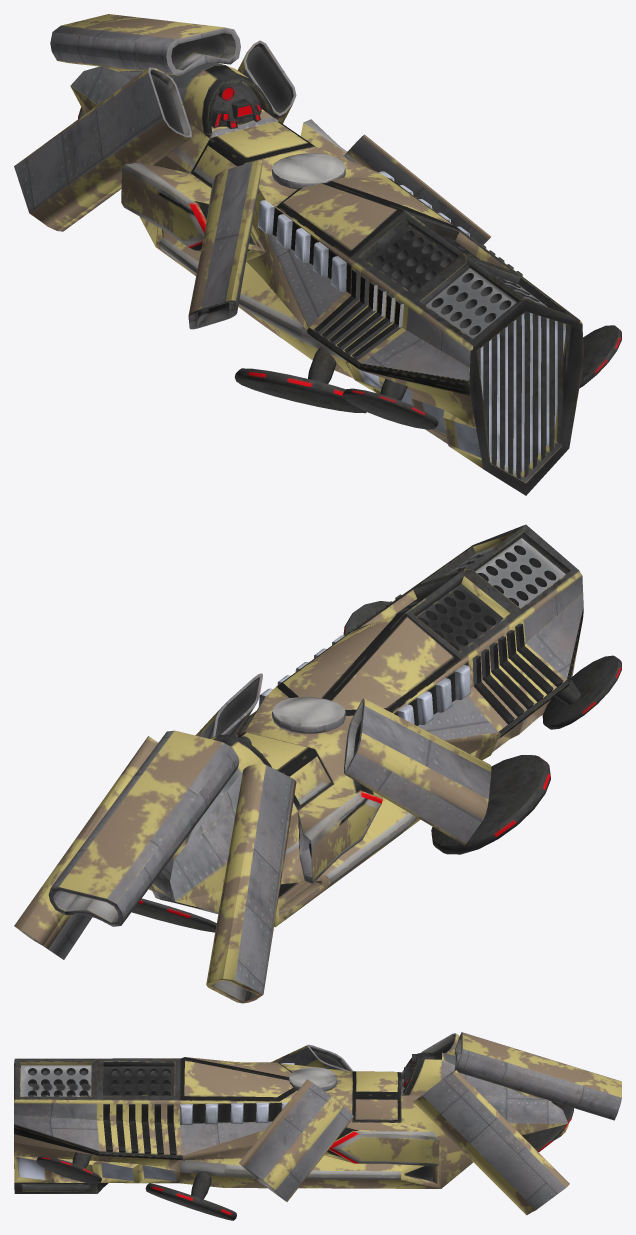
Rendered from HoverBike.glb.
3 views of the same model, one above another, from view 1: azimuth 30°, elevation 25°; view 2: azimuth 150°, elevation 25°; view 3: azimuth 270°, elevation 25° (orthographic). The views are drawn at different scales.
Visible parts, largest first — view 1: HoverBike_Baked; view 2: HoverBike_Baked; view 3: HoverBike_Baked.
Boxes of the visible parts, <box> form: HoverBike_Baked: <box>14,14,621,495</box>; HoverBike_Baked: <box>14,524,621,1003</box>; HoverBike_Baked: <box>14,1032,621,1220</box>.
Bounding box in the file's own units: 4.25 × 3.12 × 10.98.
Materials: 1 (1 with a texture image).
